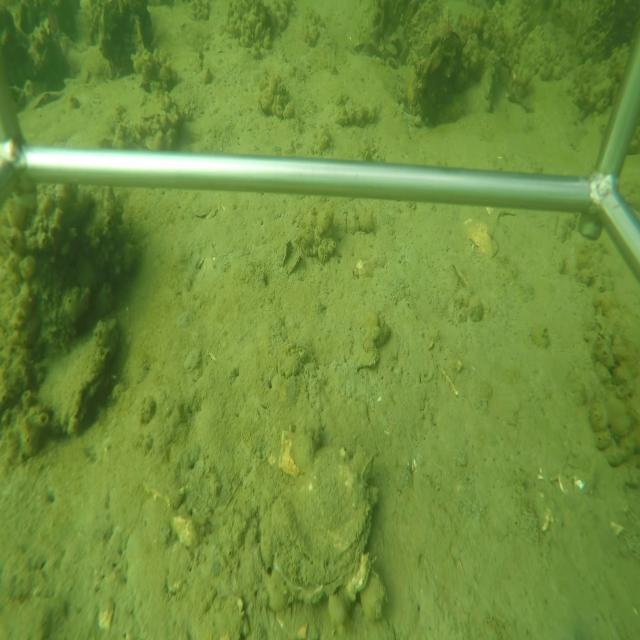Oyster-Closed: (258, 441, 376, 606), (409, 26, 464, 126)
Oyster-Indeterminate: (359, 569, 386, 623), (482, 62, 496, 111)
Oyster-Open: (39, 319, 124, 437)
